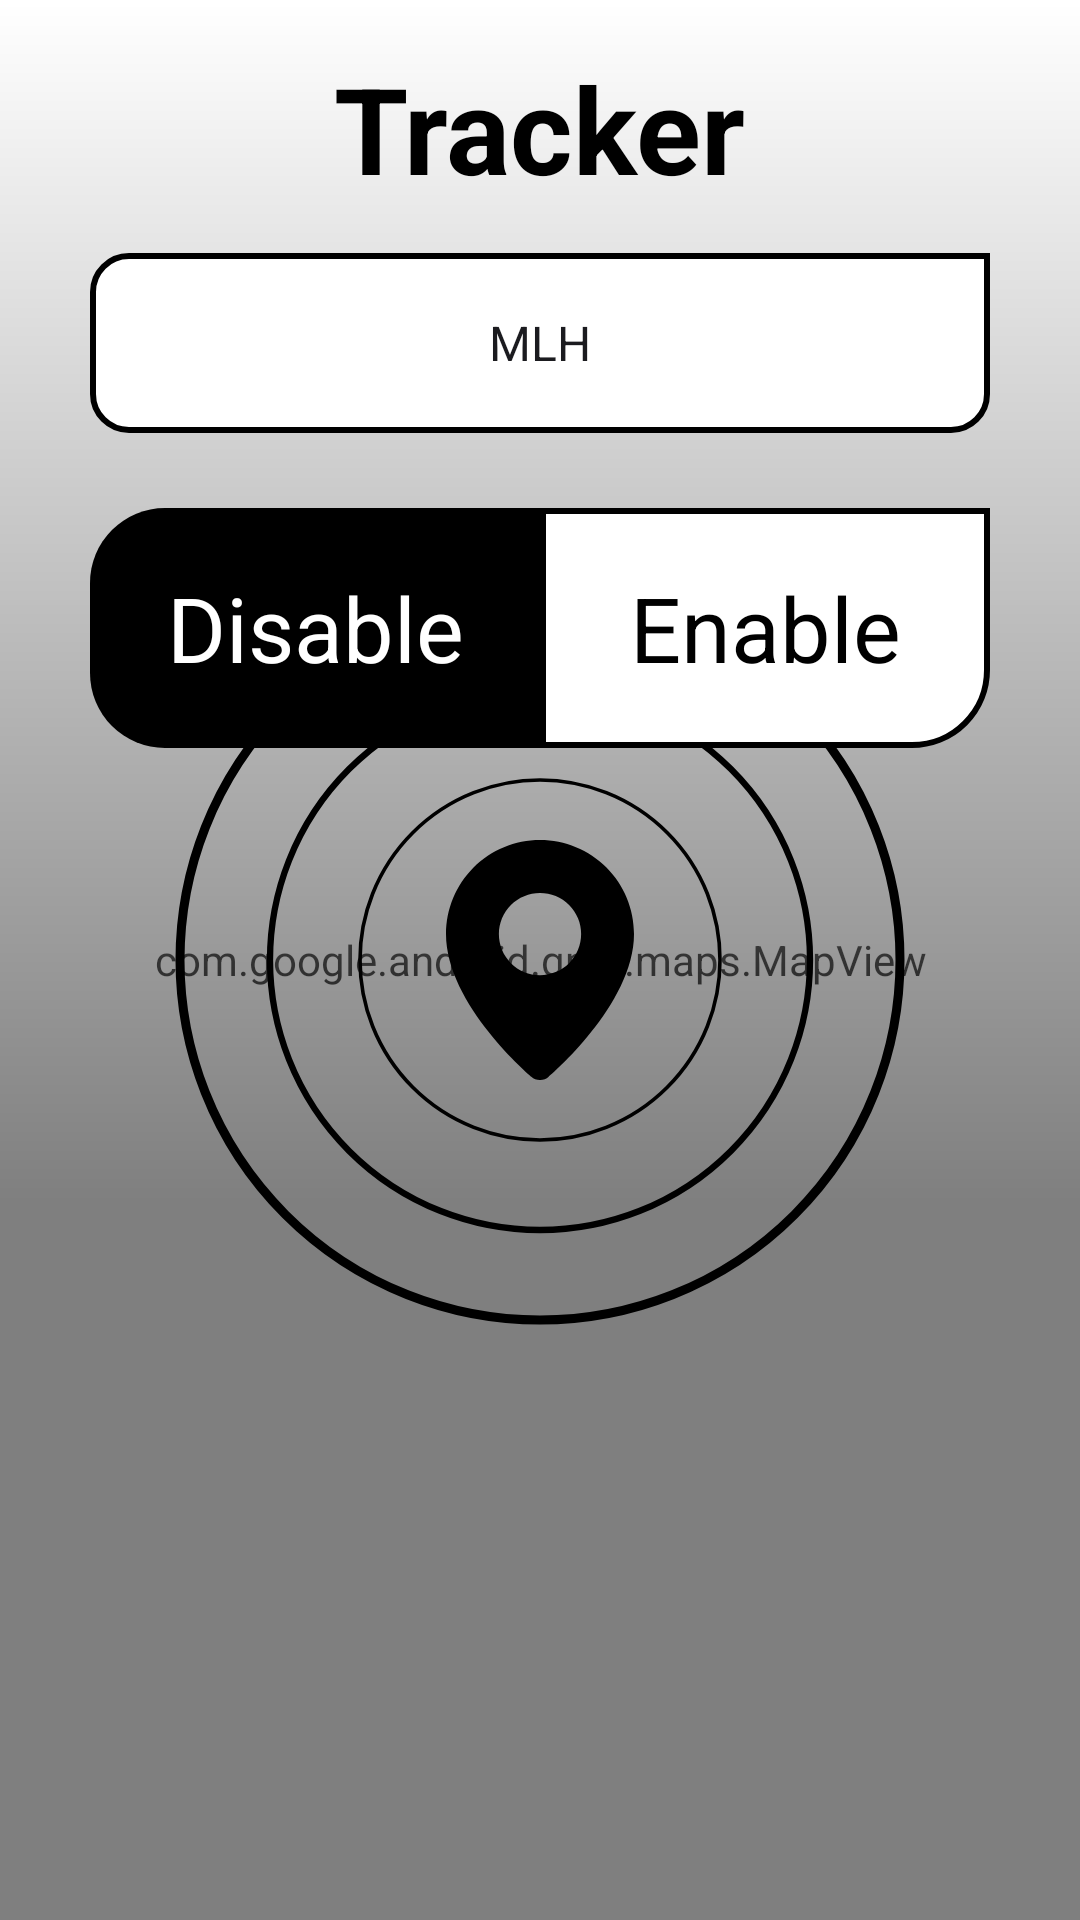

Where to tap for icons on this 1080w x 1920h app screen, as [x,y]:
Location Marker: [540,960]
